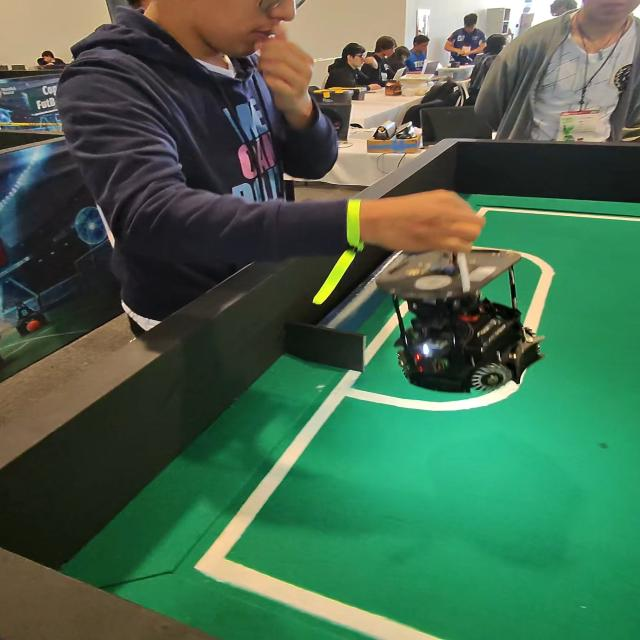Robot: (378, 245, 560, 432)
